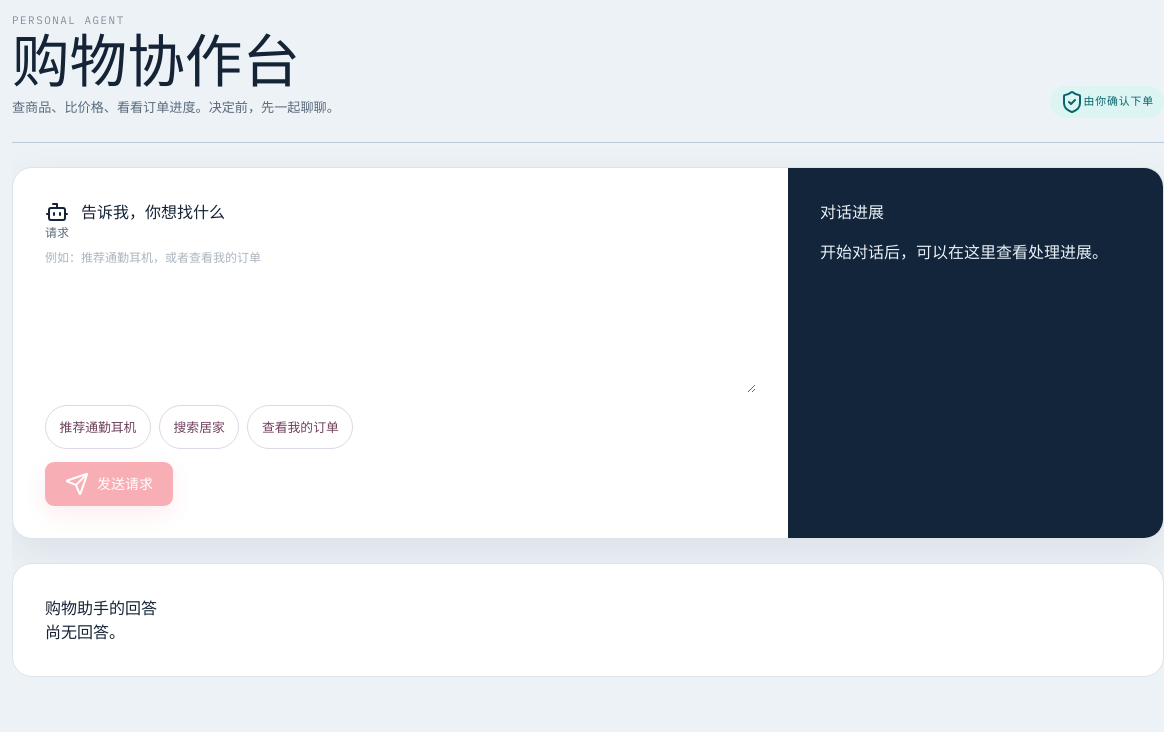
Test: Agent request lifecycle › shows an incomplete stream as a failure and cancels its remaining run
Type "中断测试" into the text box labelled "请求". click: point(400, 321)
box: [45,249,756,393]
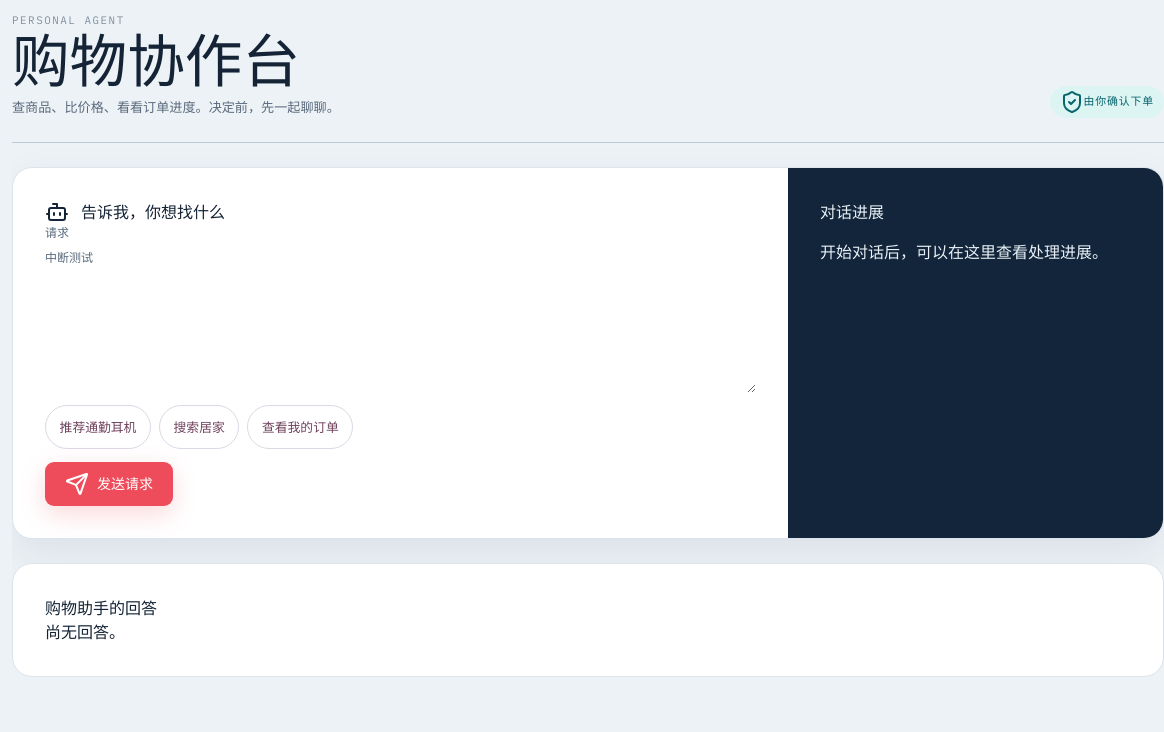
Click the button "发送请求". click: point(109, 484)
box: [45,462,173,506]
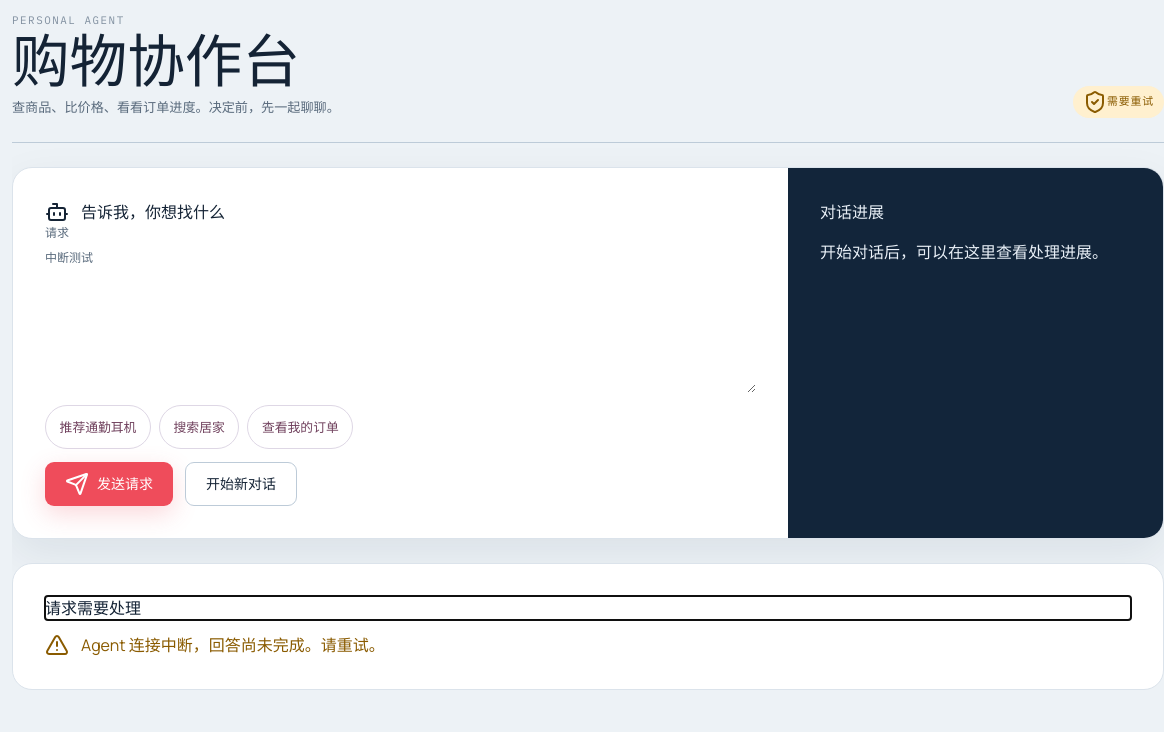
Expected: the message "Agent 连接中断，回答尚未完成。请重试。" is shown, [45,633,385,657]
Expected: the text "Agent 连接中断，回答尚未完成。请重试。" is shown, [81,633,385,657]
